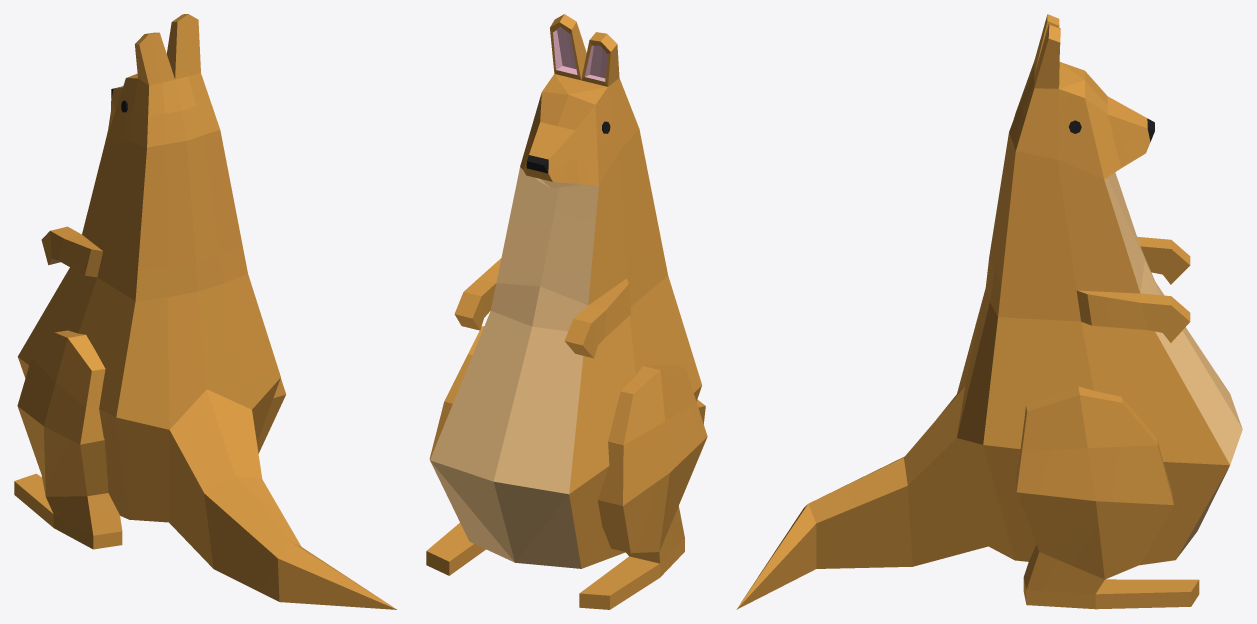
File: kangaroo.dae
3 renders of one model, left to right at view 1: azimuth 30°, elevation 25°; view 2: azimuth 150°, elevation 25°; view 3: azimuth 270°, elevation 25°, orthographic. The views are drawn at different scales.
Visible parts, largest first — view 1: Cube.027_Cube.025, Kangaroo_Cube.000; view 2: Cube.027_Cube.025, Kangaroo_Cube.000; view 3: Cube.027_Cube.025, Kangaroo_Cube.000.
Boxes of the visible parts, x1=… form: Cube.027_Cube.025: x1=17, y1=14, x2=396, y2=609; Kangaroo_Cube.000: x1=14, y1=100, x2=286, y2=549; Cube.027_Cube.025: x1=430, y1=14, x2=705, y2=568; Kangaroo_Cube.000: x1=426, y1=121, x2=707, y2=609; Cube.027_Cube.025: x1=736, y1=14, x2=1242, y2=609; Kangaroo_Cube.000: x1=1015, y1=120, x2=1199, y2=609.
Size of the model in its own units: 0.6863 by 1.34 by 1.61.
